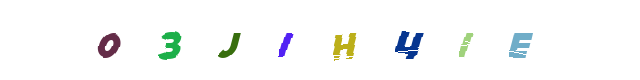3: (153, 0, 233, 80)
4: (312, 0, 392, 80)
E: (462, 0, 542, 80)
H: (304, 0, 384, 80)
I: (280, 0, 360, 80), (368, 0, 448, 80)
J: (245, 0, 325, 80)
O: (69, 0, 149, 80)
